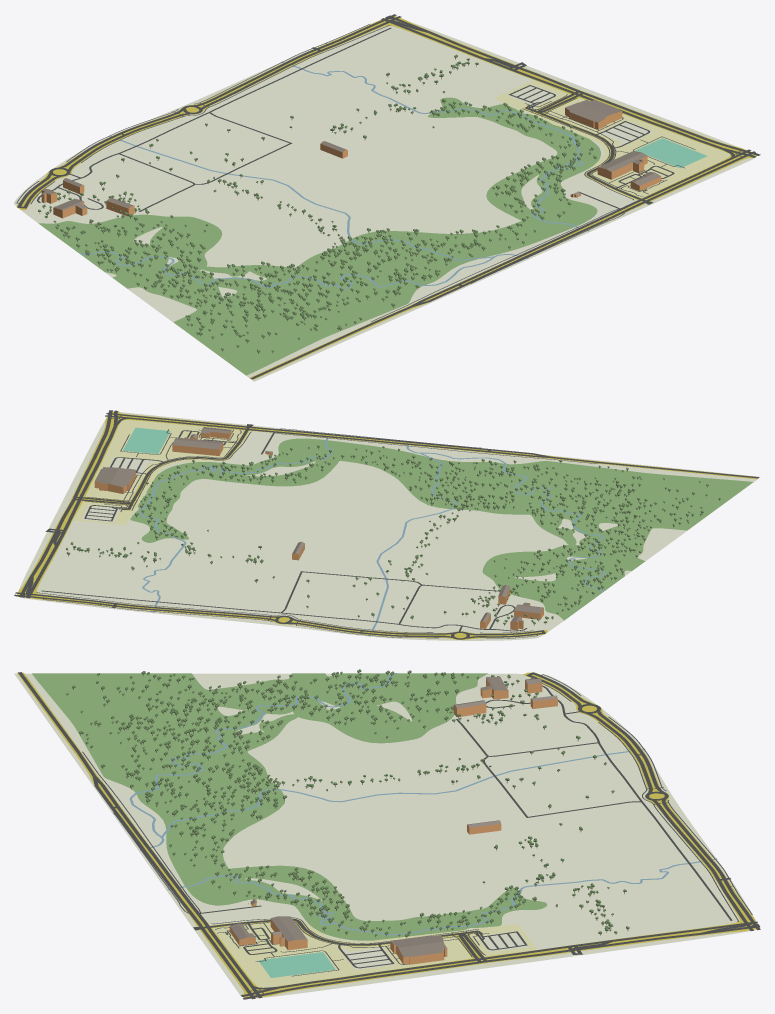
File: TempARVRGISMap 2.fbx
3 renders of one model, top to bottom at view 1: azimuth 30°, elevation 25°; view 2: azimuth 150°, elevation 25°; view 3: azimuth 270°, elevation 25°, orthographic. The views are drawn at different scales.
Parts seen in each view (by area): view 1: Terrain, Greenery, Roads, Development.002, map_19.osm_roads_tertiary, map_19.osm_buildings, map_19.osm_paths_footway, map_19.osm_roads_service, map_19.osm_roads_secondary, Park, Plane.005, Plane.003 (+2 smaller); view 2: Terrain, Greenery, Roads, map_19.osm_roads_tertiary, Development.002, map_19.osm_buildings, map_19.osm_paths_footway, map_19.osm_roads_service, map_19.osm_roads_secondary, Park, Plane.005, Plane.003 (+2 smaller); view 3: Terrain, Greenery, Roads, Development.002, map_19.osm_roads_tertiary, map_19.osm_buildings, map_19.osm_roads_secondary, map_19.osm_roads_service, map_19.osm_paths_footway, Park, Plane.005, Plane.003 (+2 smaller).
Part boxes in pixels (x1,y1,x2,y2): Terrain: (14,21,754,381); Greenery: (38,97,600,375); Roads: (16,16,756,379); Development.002: (494,80,730,200); map_19.osm_roads_tertiary: (17,14,755,379); map_19.osm_buildings: (41,99,661,218); map_19.osm_paths_footway: (16,23,741,321); map_19.osm_roads_service: (37,27,674,211); map_19.osm_roads_secondary: (381,15,760,157); Park: (636,138,706,168); Plane.005: (281,61,589,231); Plane.003: (80,251,528,289); Terrain: (19,412,760,640); Greenery: (130,438,753,620); Roads: (16,411,759,639); map_19.osm_roads_tertiary: (14,413,758,639); Development.002: (72,420,251,525); map_19.osm_buildings: (94,427,543,630); map_19.osm_paths_footway: (36,415,597,638); map_19.osm_roads_service: (41,430,527,632); map_19.osm_roads_secondary: (18,410,118,598); Park: (123,427,170,453); Plane.005: (140,438,332,612); Plane.003: (406,445,605,592); Terrain: (14,673,757,998); Greenery: (32,673,546,940); Roads: (17,672,759,997); Development.002: (209,918,537,987); map_19.osm_roads_tertiary: (18,672,760,999); map_19.osm_buildings: (229,677,557,964); map_19.osm_roads_secondary: (241,921,759,999); map_19.osm_roads_service: (199,685,732,968); map_19.osm_paths_footway: (82,674,752,993); Park: (258,952,335,977); Plane.005: (167,858,716,935); Plane.003: (129,673,396,850).
Size of the model in its own units: 25908 by 478 by 24960.
